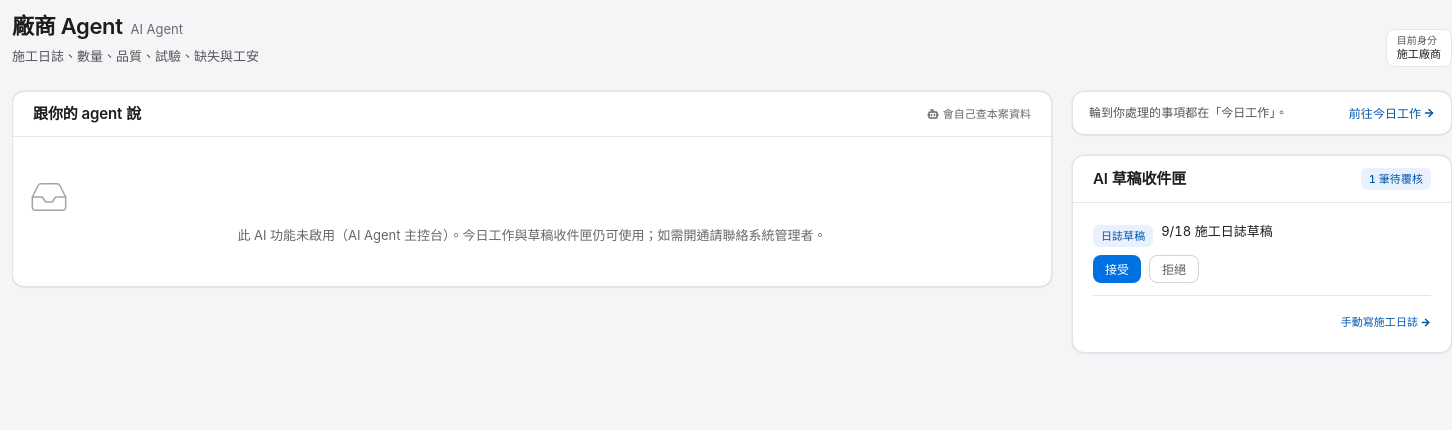
Test: 拒絕 AI 起稿的現場文書草稿 › 捨棄失敗:如實顯示伺服器訊息,草稿不會被偷偷標成已拒絕
The image size is (1452, 430).
Click the button "拒絕".
click(1174, 269)  # box left=1149, top=255, right=1199, bottom=283
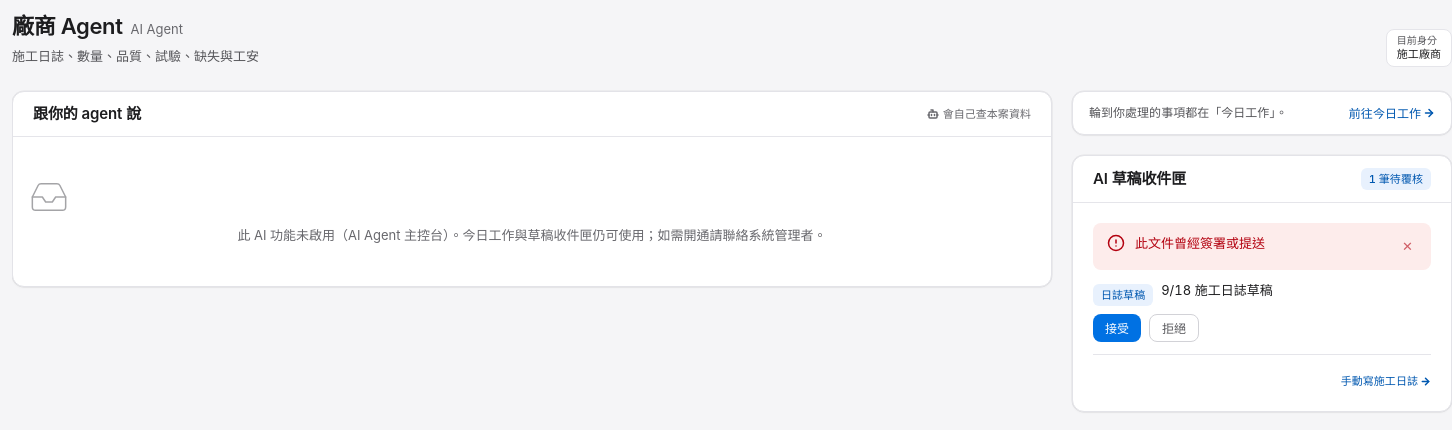
expect the text "此文件曾經簽署或提送" is shown: met, box left=1135, top=235, right=1265, bottom=251
